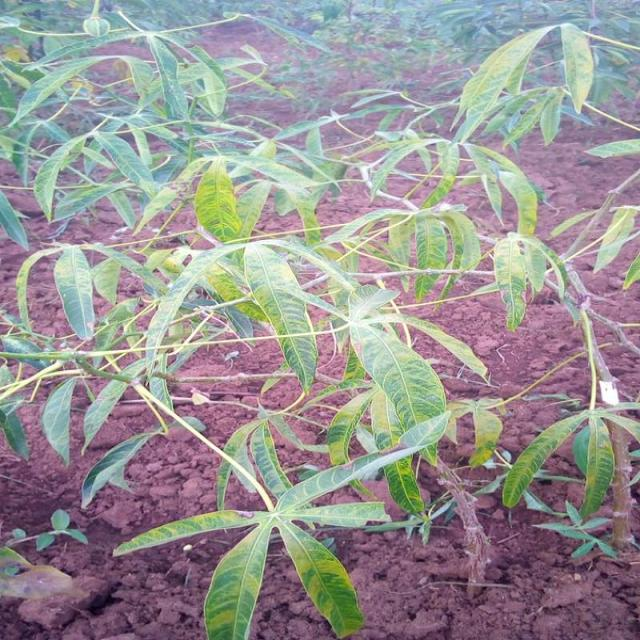cassava leaf: (1, 3, 637, 638), (242, 240, 318, 395)
